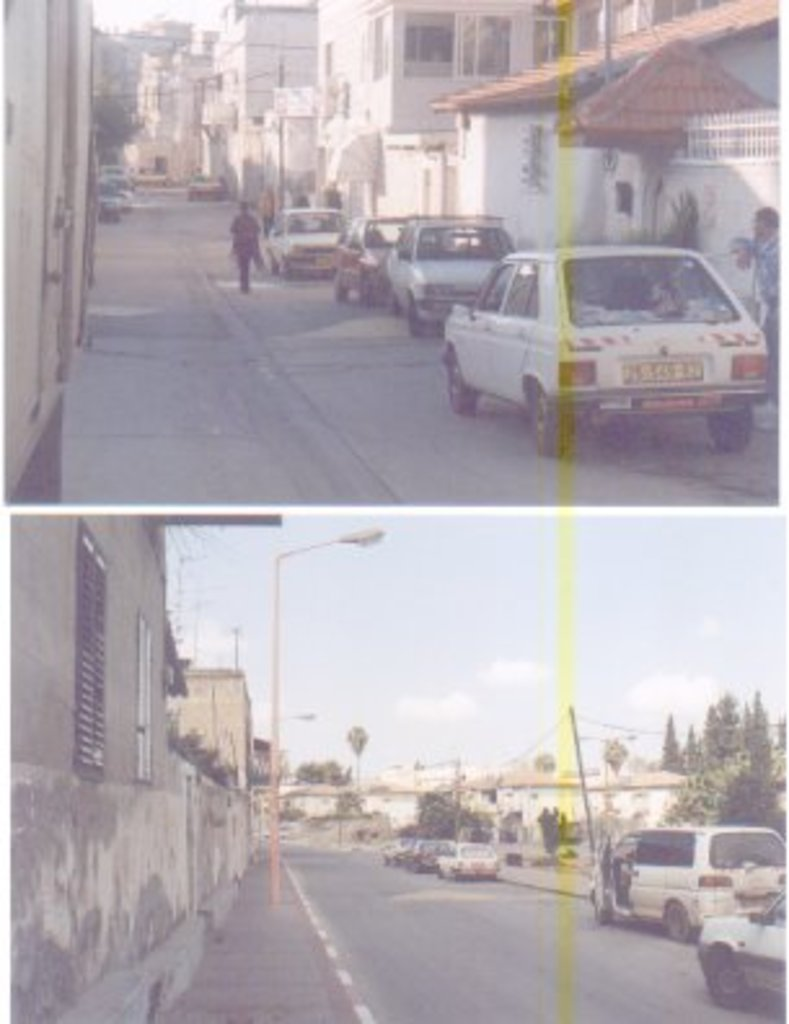Car: (419, 219, 760, 455), (390, 206, 532, 343), (690, 876, 786, 1018), (333, 206, 457, 315), (269, 199, 354, 279), (434, 832, 504, 886), (406, 837, 452, 884), (382, 837, 429, 871)
